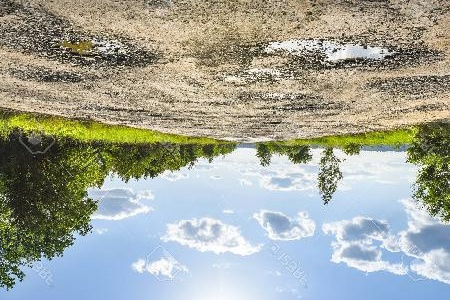pothole: (250, 36, 426, 73), (28, 28, 151, 71), (28, 67, 85, 87)
